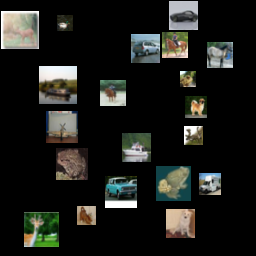airplane: (46, 111, 78, 143)
automobile: (105, 176, 137, 208), (169, 1, 198, 30), (131, 34, 160, 63)
bird: (57, 15, 73, 31)
cat: (77, 206, 96, 225)
deer: (1, 11, 39, 49), (24, 212, 59, 247), (184, 126, 203, 145)
dog: (166, 209, 195, 238), (185, 96, 207, 118)
frog: (156, 166, 191, 201), (56, 148, 88, 180), (180, 71, 196, 87)
ship: (39, 66, 77, 104), (122, 133, 151, 162)
